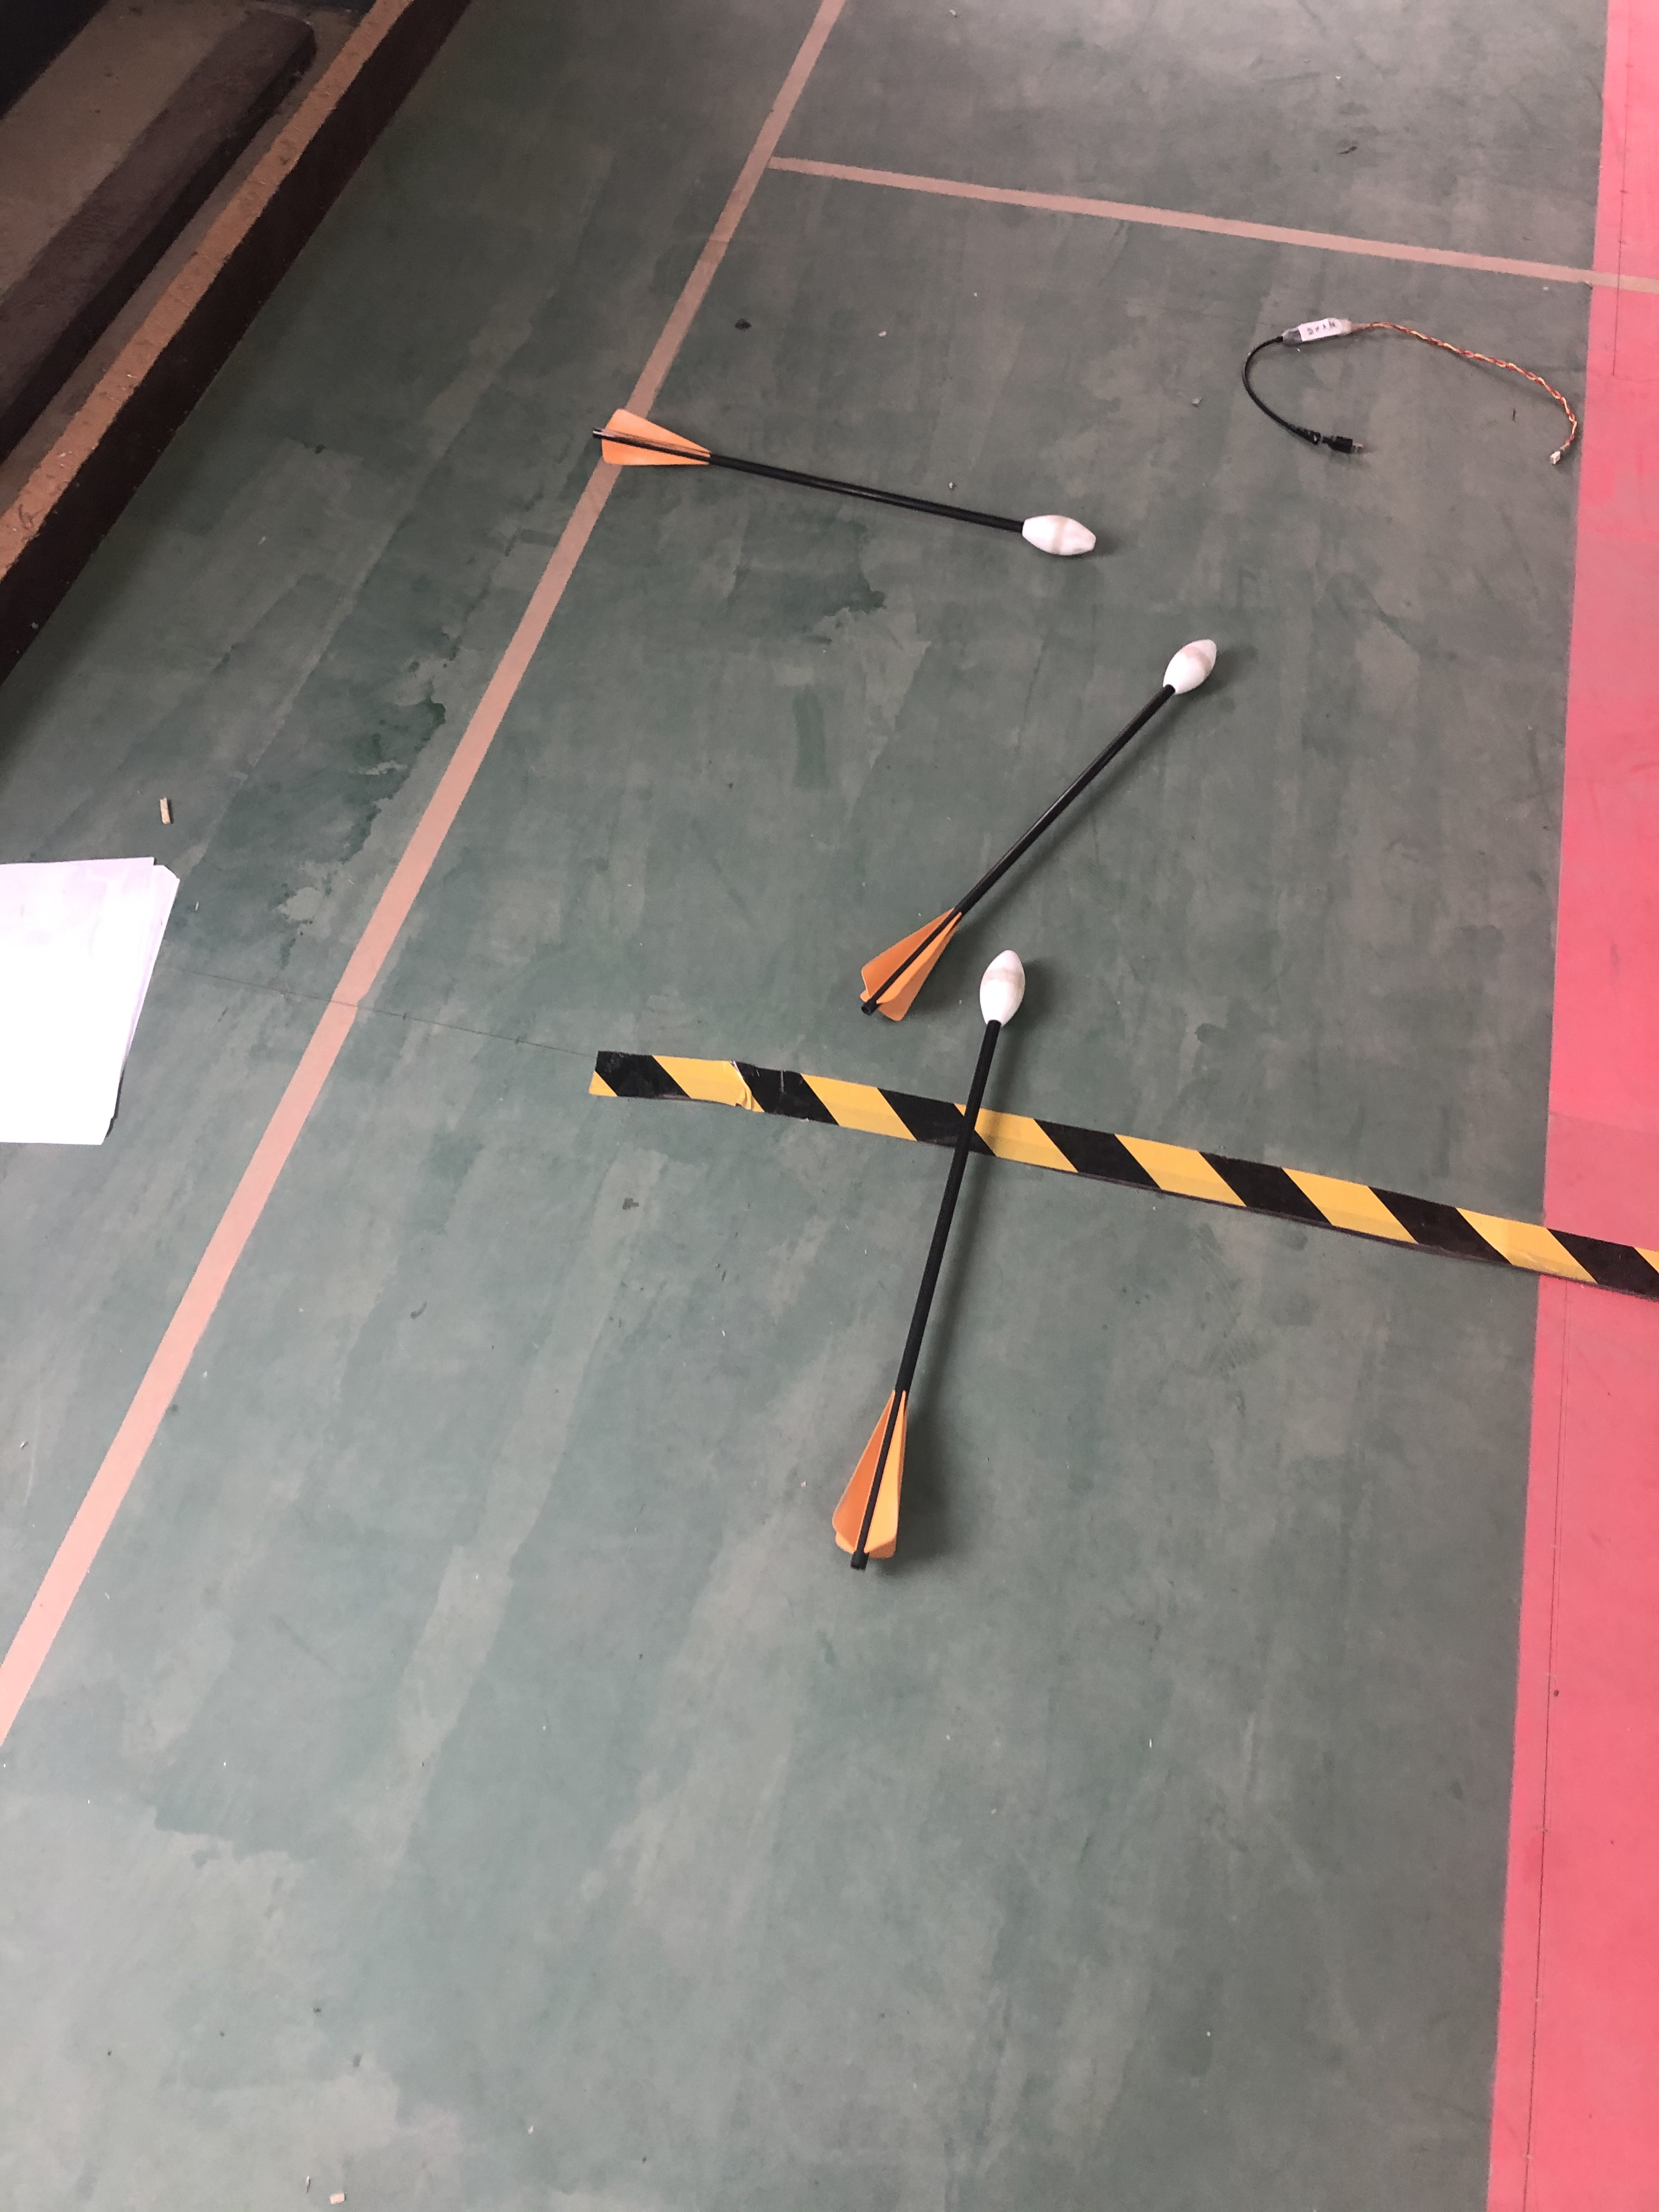arrow: (852, 643, 1218, 1019), (824, 953, 1037, 1576), (587, 401, 1100, 554)
arrowFront: (978, 948, 1026, 1033), (1157, 636, 1218, 700), (1018, 509, 1100, 556)
